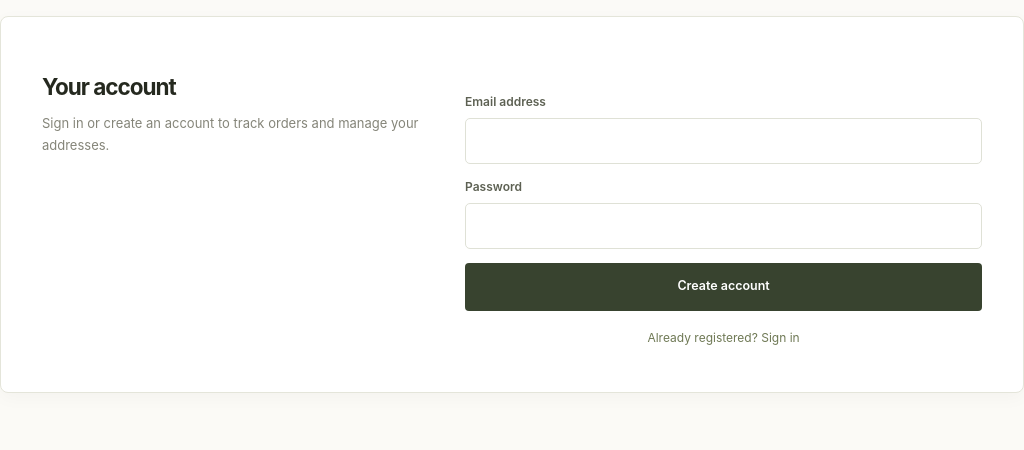
Scenario: AuthPanel › switches to sign-in mode and submits login credentials
Click the button "Already registered? Sign in". click: (724, 338)
box: [465,325,982,351]
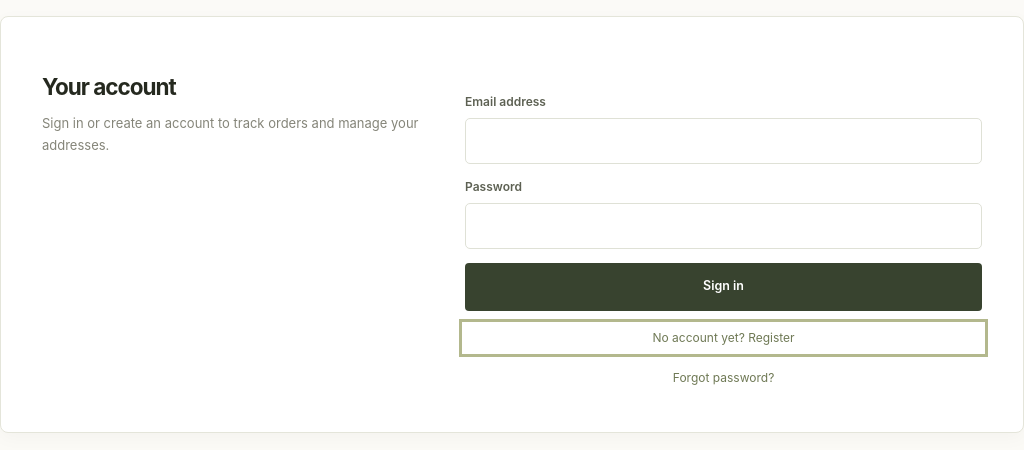
Type "test@example.com" into the field labelled "Email address". click: (724, 141)
box: [465,118,982,164]
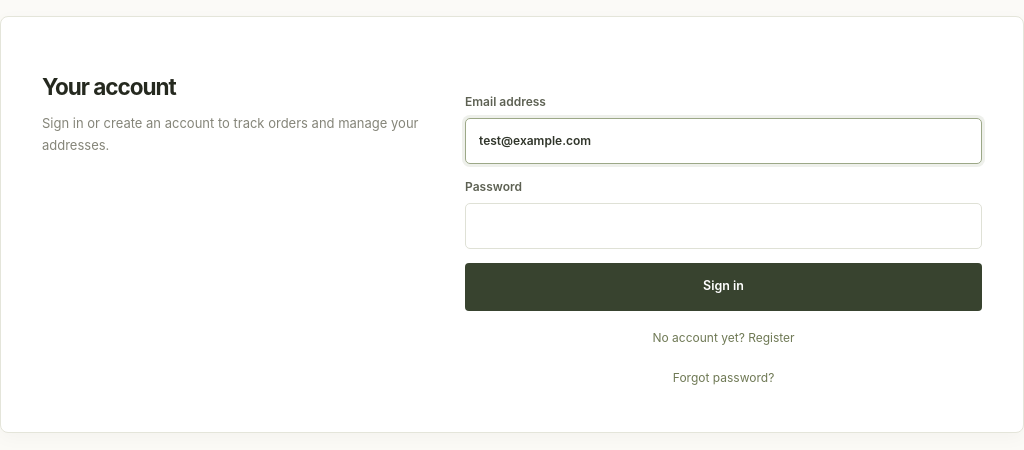
Type "correct-horse-battery" into the password field labelled "Password". click: (724, 226)
box: [465,203,982,249]
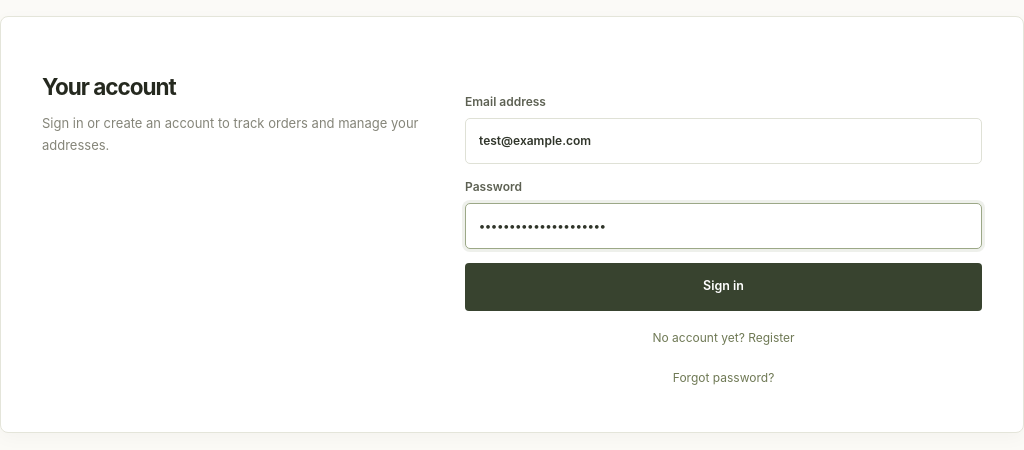
Click the button "Sign in". click: (724, 287)
box: [465,263,982,311]
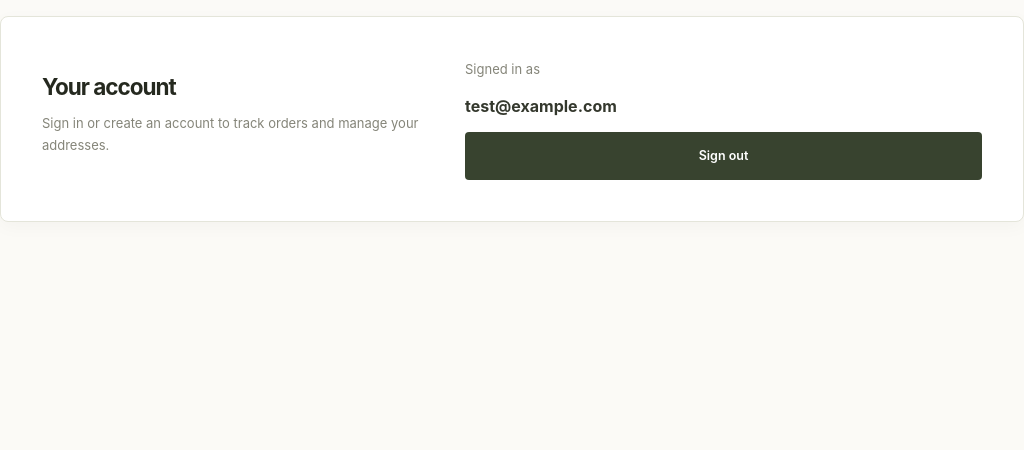
Result: the text "test@example.com" is shown at [465,96,617,116]
